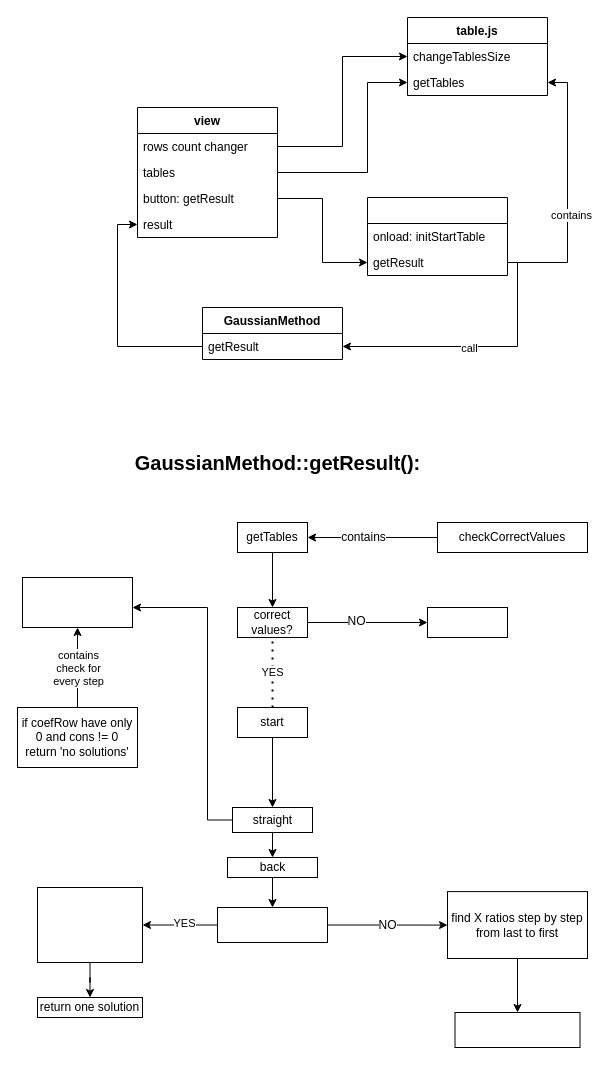
The diagram is 609 pixels wide and 1065 high, and some of its shapes have lost their labels. The shapes that lost their labels are listed below. From the top down, each one's box as (x1, y1, x2, y2) in pixels, then its label:
(366, 196, 508, 276): main.js
(22, 576, 132, 628): change table to triangle form
(426, 606, 508, 638): return error
(36, 886, 142, 962): find X values step by step from last to first
(216, 906, 328, 942): lastRow have one cell that != 0?
(454, 1012, 580, 1048): return set of solutions
